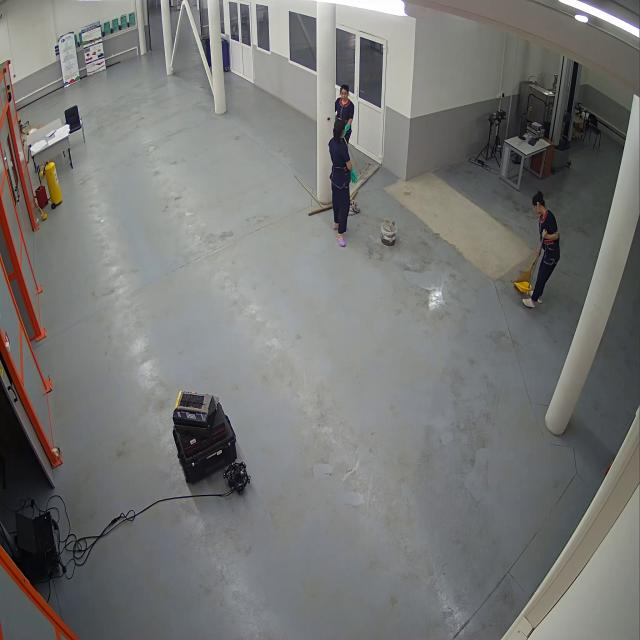NO-Hardhat: (532, 190, 543, 203), (334, 118, 343, 132), (341, 84, 349, 94)
Person: (522, 186, 560, 311), (328, 114, 355, 250), (334, 79, 354, 149)
